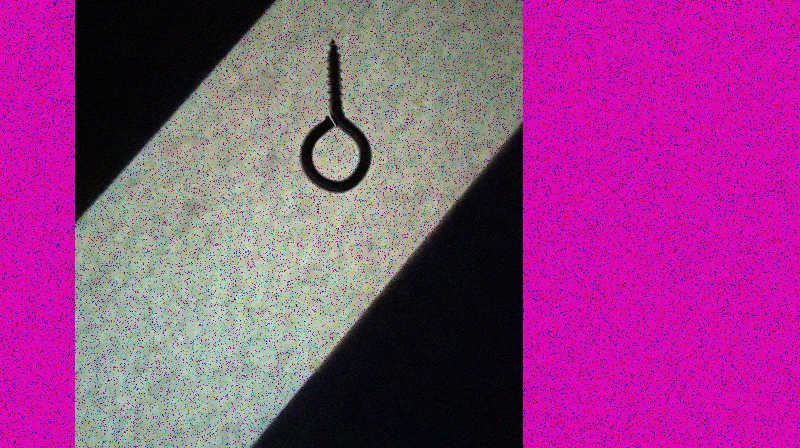O001: (297, 37, 372, 194)
